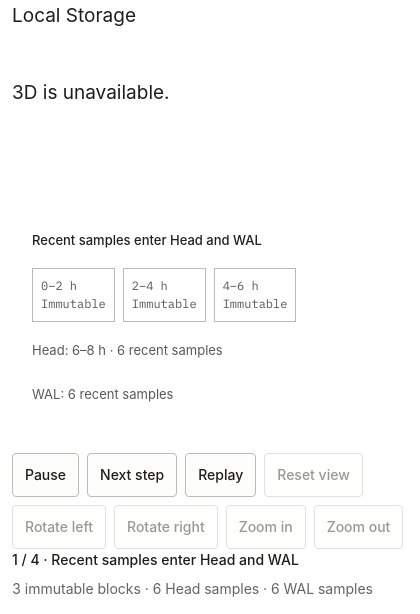
Test: Prometheus spatial article controls › lets readers recover and expire samples manually in the HTML fallback
Expected: the message shows "1 / 4", [12,550,373,597]
Click the button "Next step": point(132, 474) [87,452,177,496]
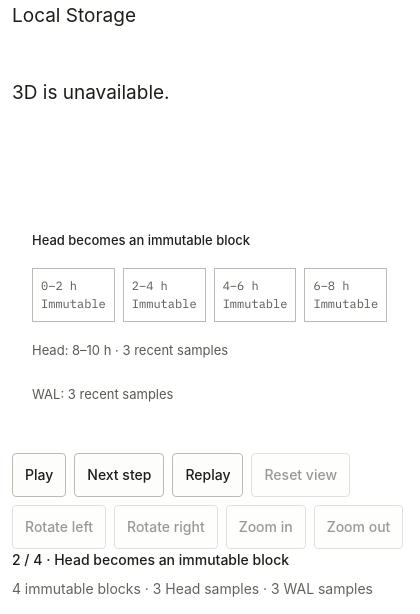
Expected: the message shows "4 immutable blocks", [12,550,373,597]
Click the button "Next step": point(119, 474) [74,452,164,496]
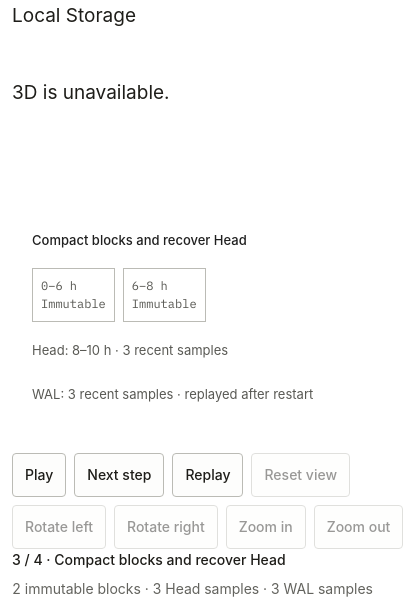
Expected: the message shows "3 Head samples · 3 WAL samples", [12,550,373,597]
Expected: the message shows "Compact blocks and recover Head", [54,550,286,568]
Click the button "Next step": point(119, 474) [74,452,164,496]
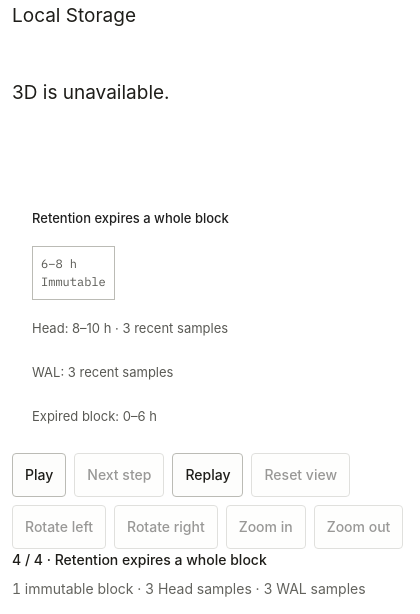
Expected: the message shows "4 / 4", [12,550,366,597]
Expected: the message shows "1 immutable block", [12,550,366,597]
Expected: the button "Next step" is disabled, [74,452,164,496]
Click the button "Replay": point(208, 474) [172,452,244,496]
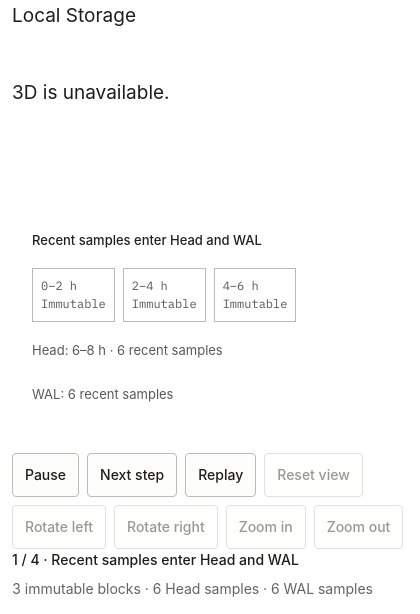
Expected: the message shows "1 / 4", [12,550,373,597]
Expected: the button "Next step" is enabled, [87,452,177,496]
